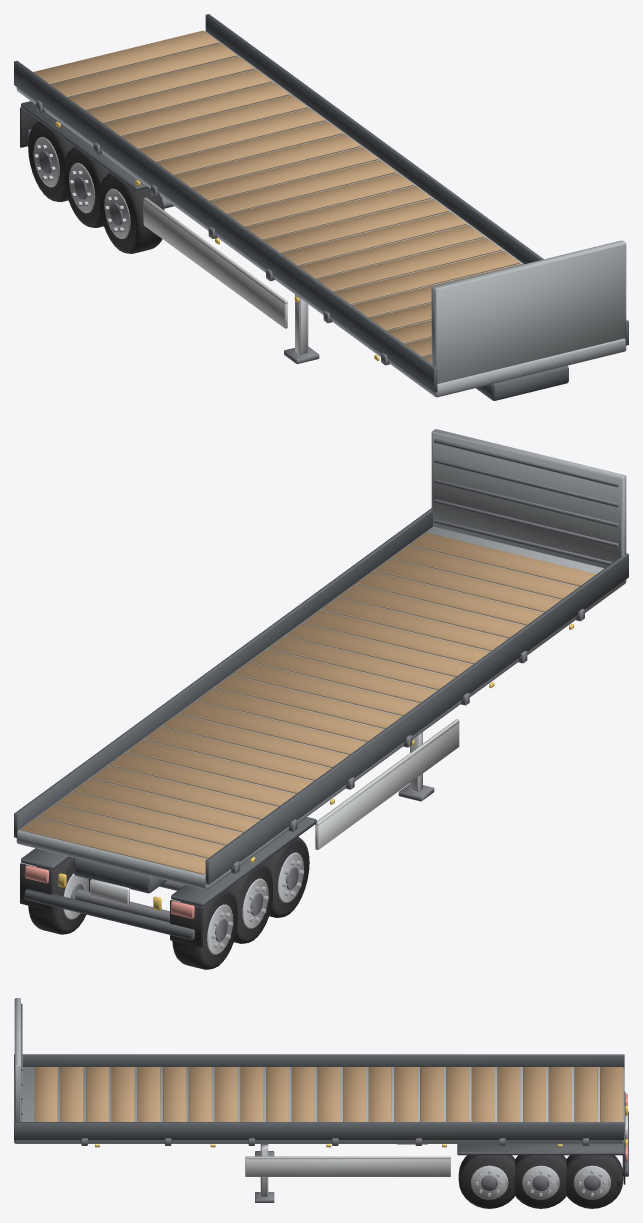
File: trailer_flat.glb
3 renders of one model, top to bottom at view 1: azimuth 30°, elevation 25°; view 2: azimuth 150°, elevation 25°; view 3: azimuth 270°, elevation 25°, orthographic. The views are drawn at different scales.
Parts seen in each view (by area): view 1: Body; view 2: Body; view 3: Body.
Part boxes in pixels (x1,y1,x2,y2): Body: (14, 14, 628, 400); Body: (14, 429, 628, 969); Body: (14, 998, 628, 1208).
Bounding box in the file's own units: 2.61 × 2.55 × 9.57.
